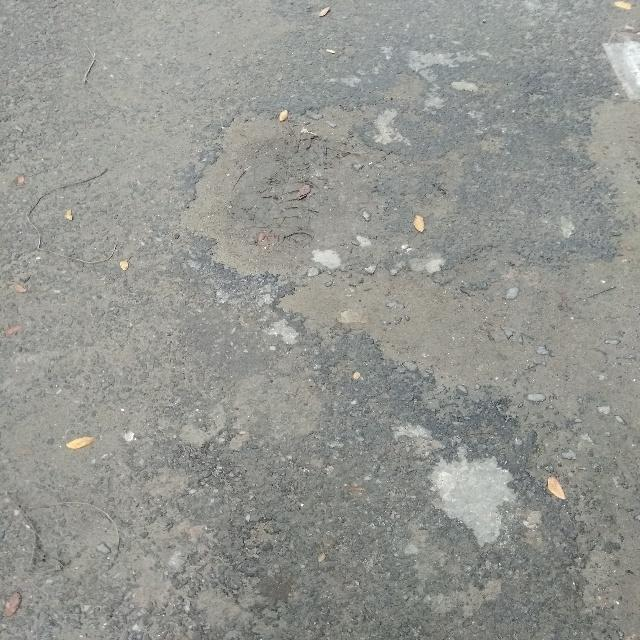Surface Erosion: (31, 0, 640, 602)
